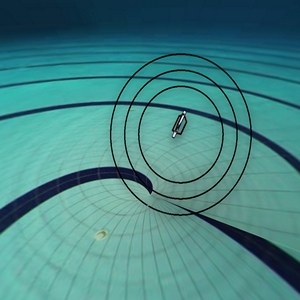circle: (97, 45, 264, 222)
submarine: (161, 103, 200, 151)
